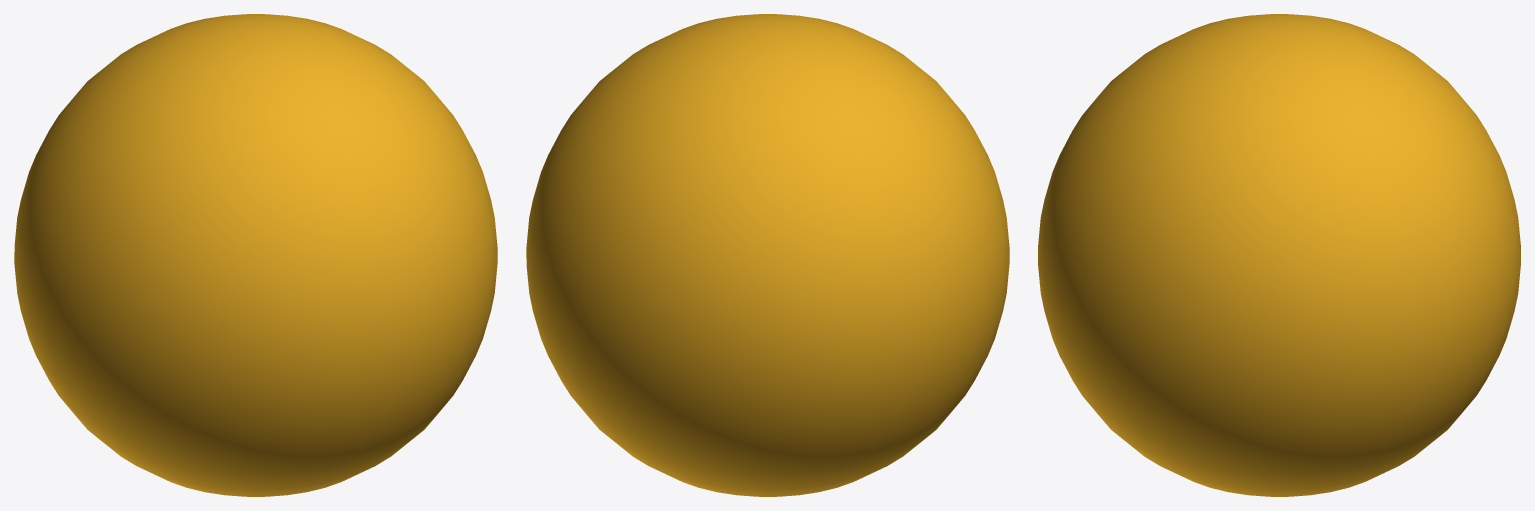
3 views of the same model, side by side, from view 1: azimuth 30°, elevation 25°; view 2: azimuth 150°, elevation 25°; view 3: azimuth 270°, elevation 25° (orthographic).
Parts seen in each view (by area): view 1: fuel model v1; view 2: fuel model v1; view 3: fuel model v1.
Boxes of the visible parts, <box> form: fuel model v1: <box>14,14,497,496</box>; fuel model v1: <box>526,14,1009,496</box>; fuel model v1: <box>1038,14,1520,496</box>.
Size of the model in its own units: 0.1498 by 0.1501 by 0.1495.
